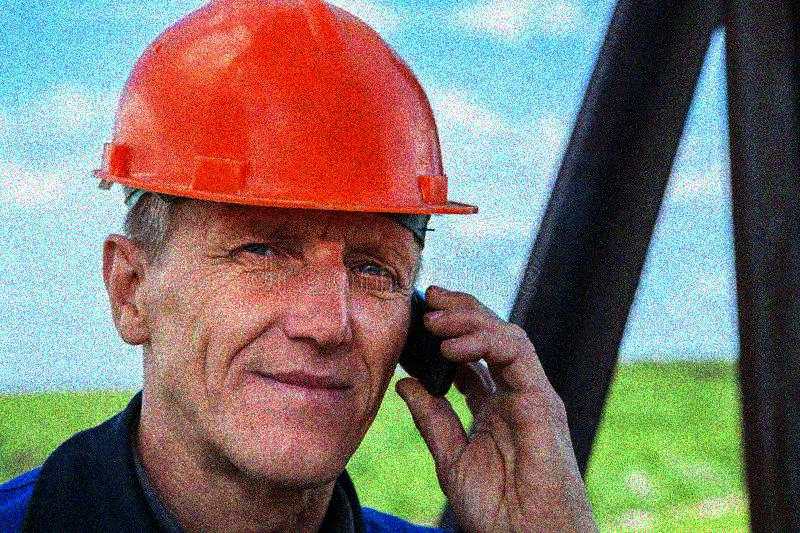helmet: (95, 1, 480, 482)
